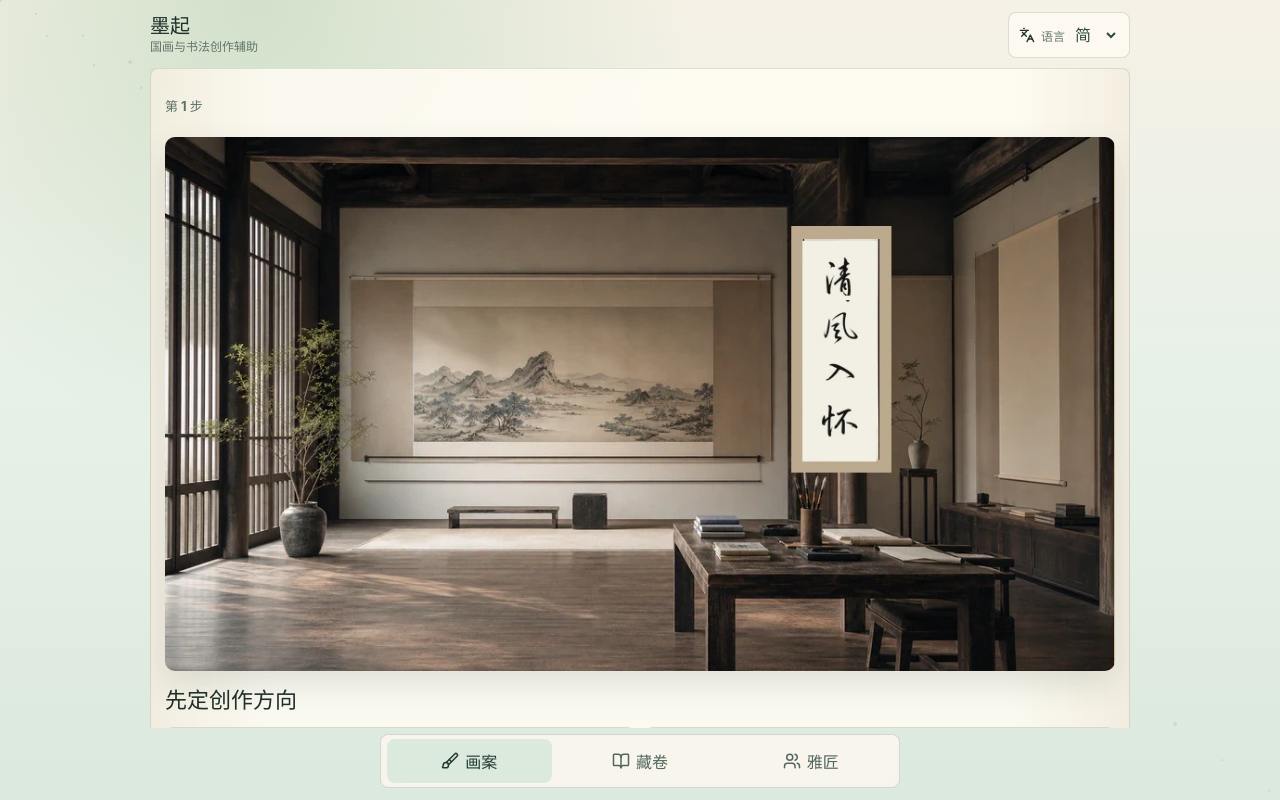
it: App › updates visible tab text when language changes
This screenshot has width=1280, height=800.
Expected: the heading "墨起" is shown, [150, 14, 190, 38]
Select "EN" in the dropdown labelled "语言" at (1095, 35), box [1071, 13, 1119, 57]
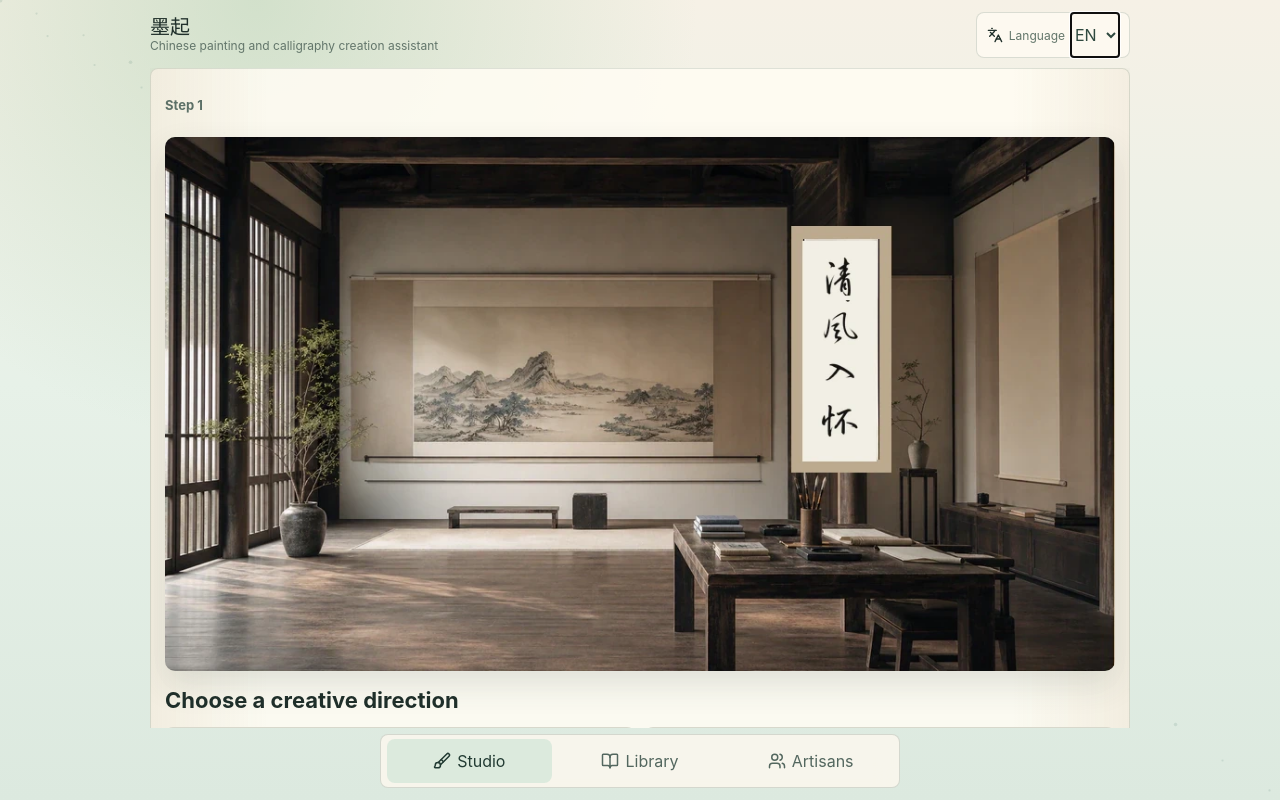
Expected: the button "Studio" is shown, [387, 739, 552, 783]
Expected: the button "Library" is shown, [558, 739, 722, 783]
Expected: the button "Artisans" is shown, [728, 739, 893, 783]
